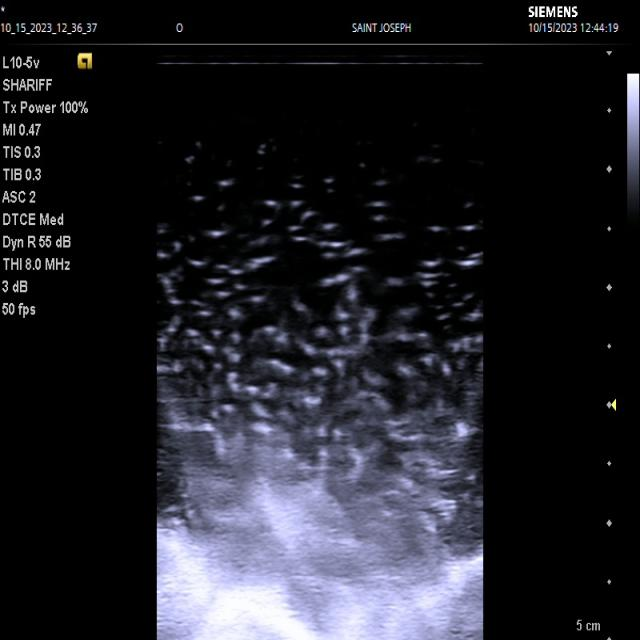tissue: (157, 529, 482, 640)
